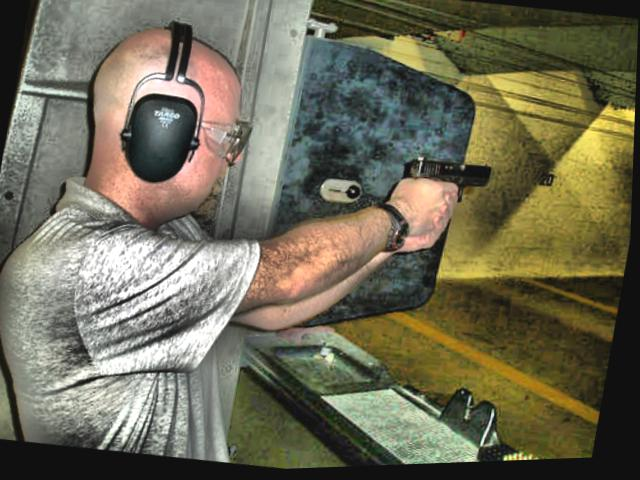pistol: (398, 152, 494, 211)
